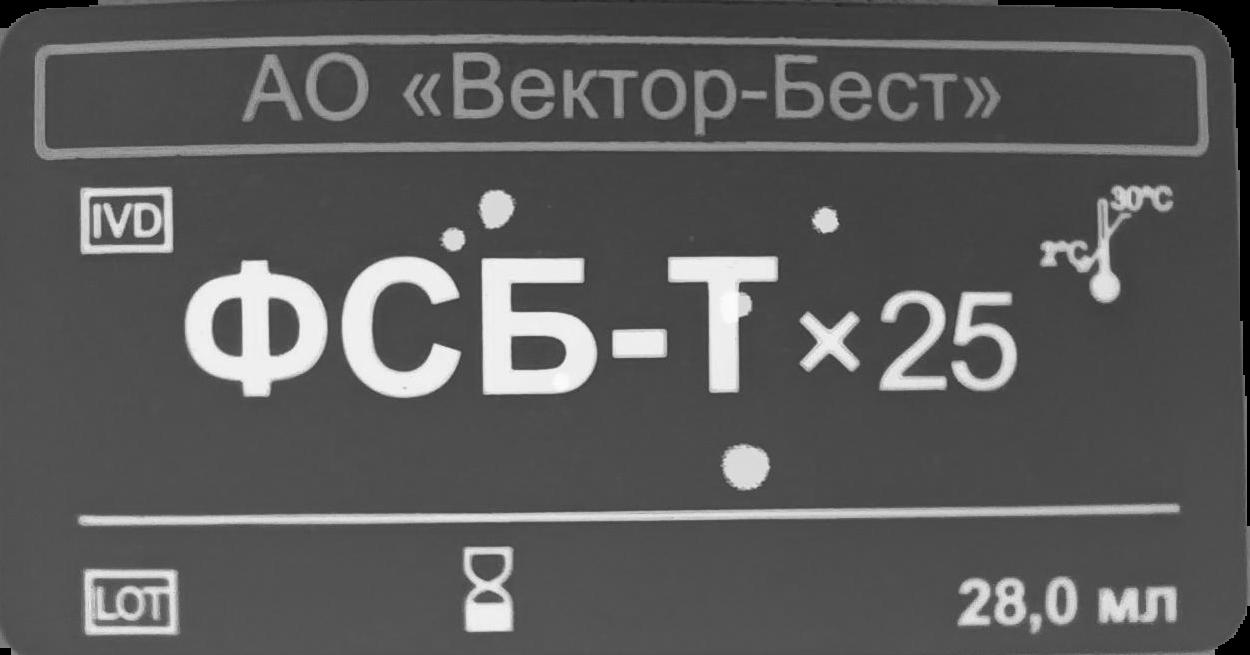something: (1039, 184, 1181, 308), (75, 564, 186, 641), (76, 183, 177, 260), (462, 543, 515, 642)
text: (178, 258, 1025, 399), (241, 48, 1012, 138), (955, 567, 1182, 637)
